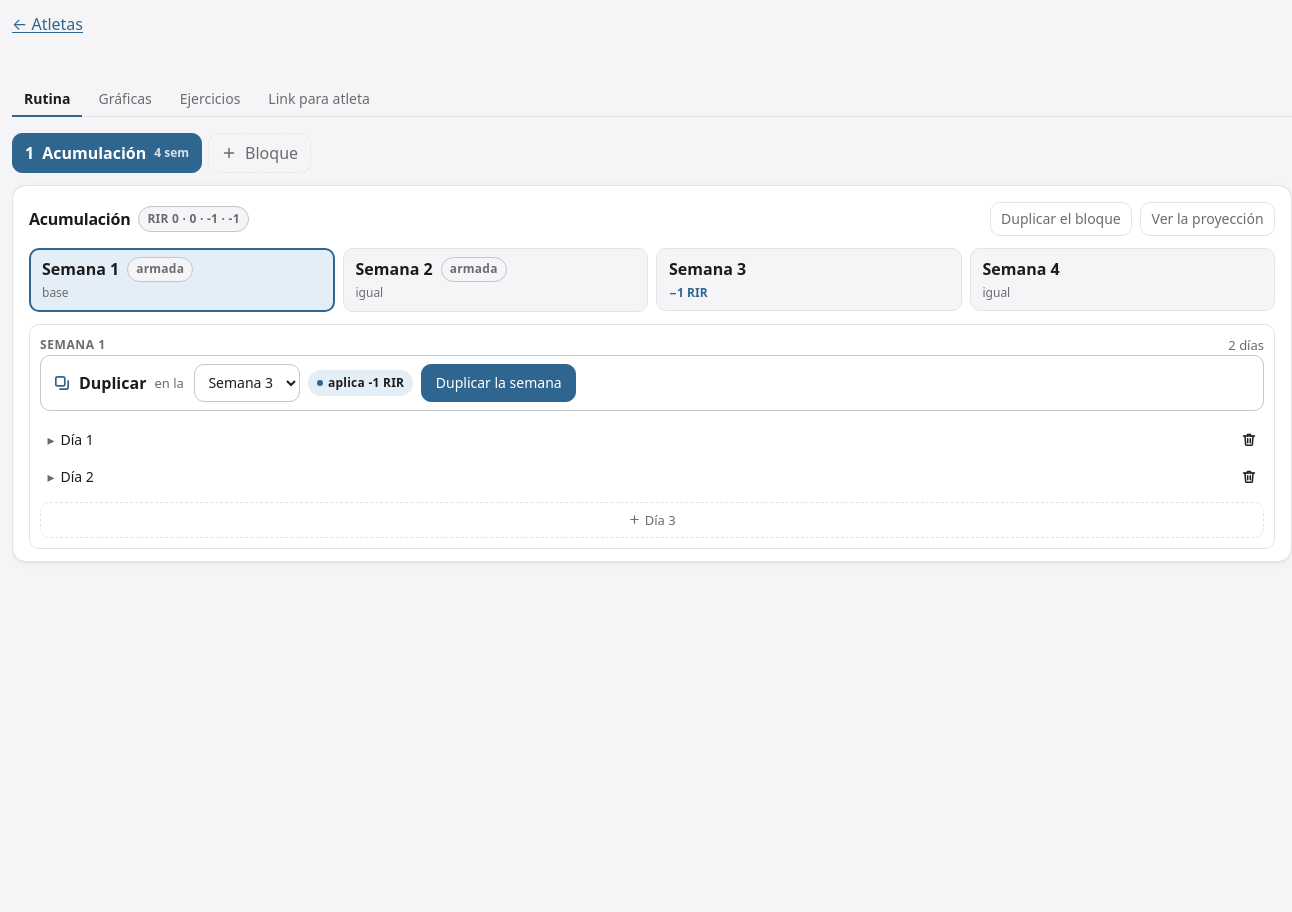
Test: agregar y borrar días › borrar el día abierto lo cierra antes de sacarlo
Click the button "▸ Día 1": click(51, 439) x1=40 y1=423 x2=1231 y2=456
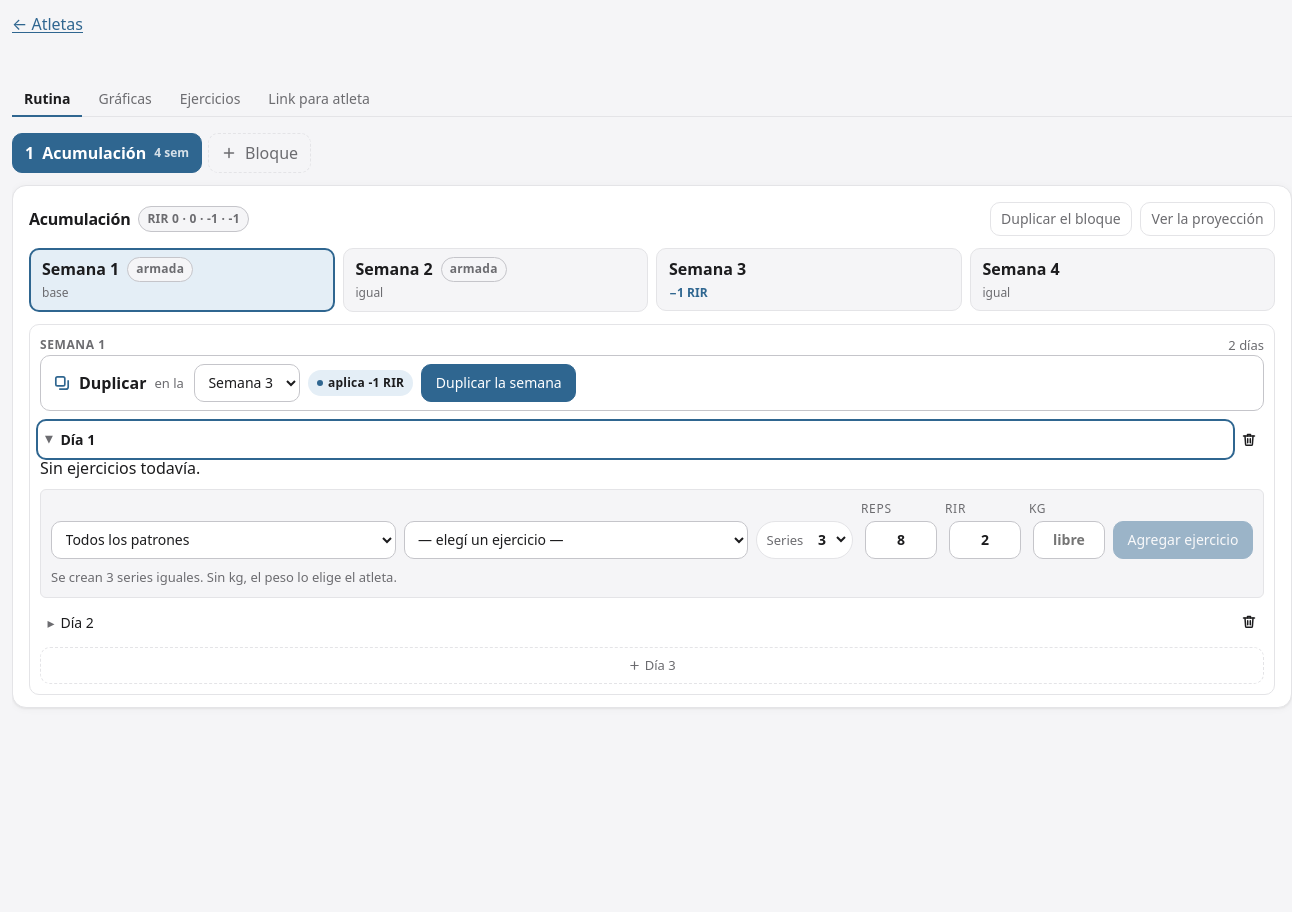
expect the button "▸ Día 1" is expanded: met, box x1=40 y1=423 x2=1231 y2=456
Click the button named "Borrar el día 1 de la semana 1": click(1249, 440) x1=1235 y1=427 x2=1264 y2=452
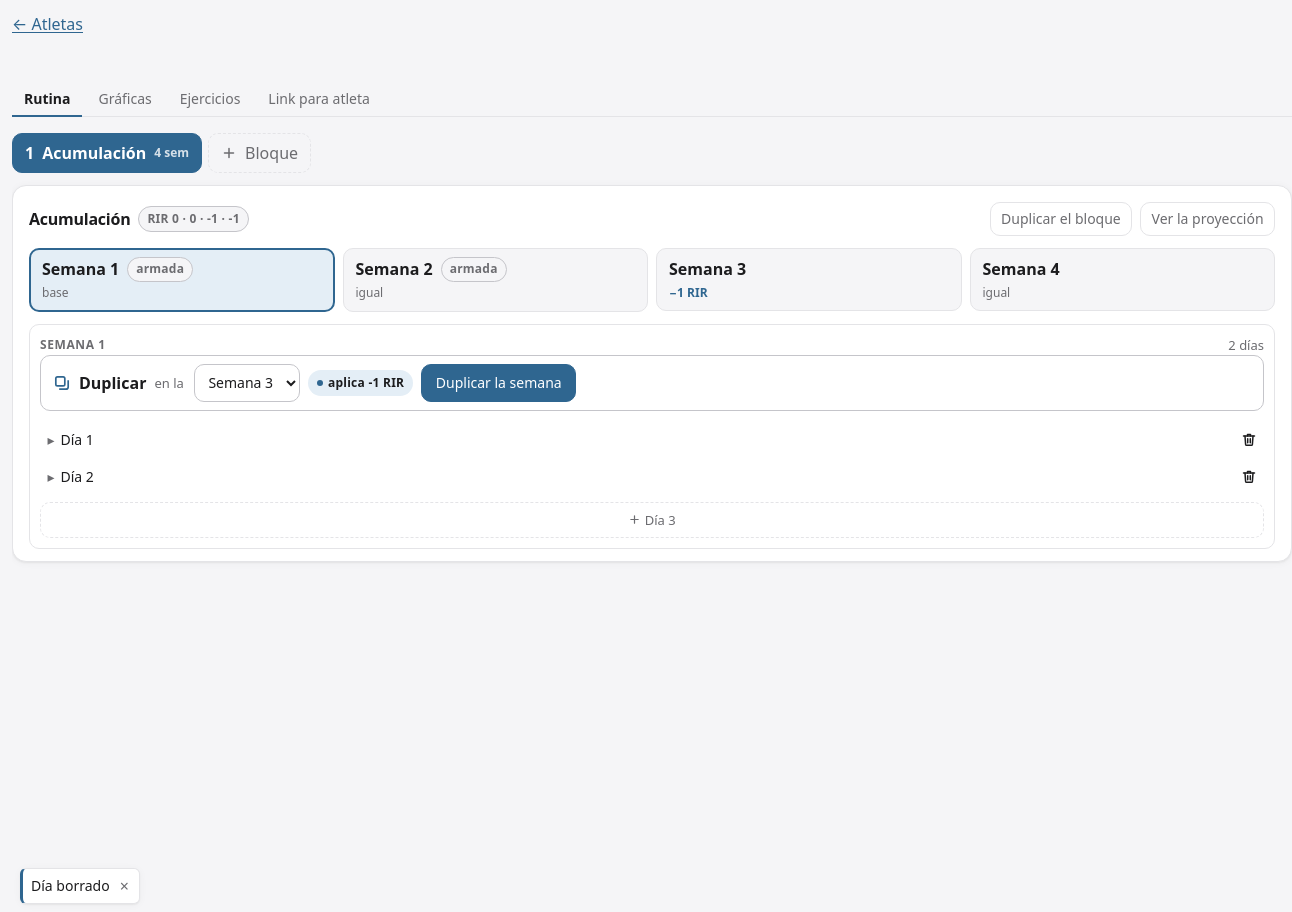
expect the button "▸ Día 1" is collapsed: met, box x1=40 y1=423 x2=1231 y2=456
